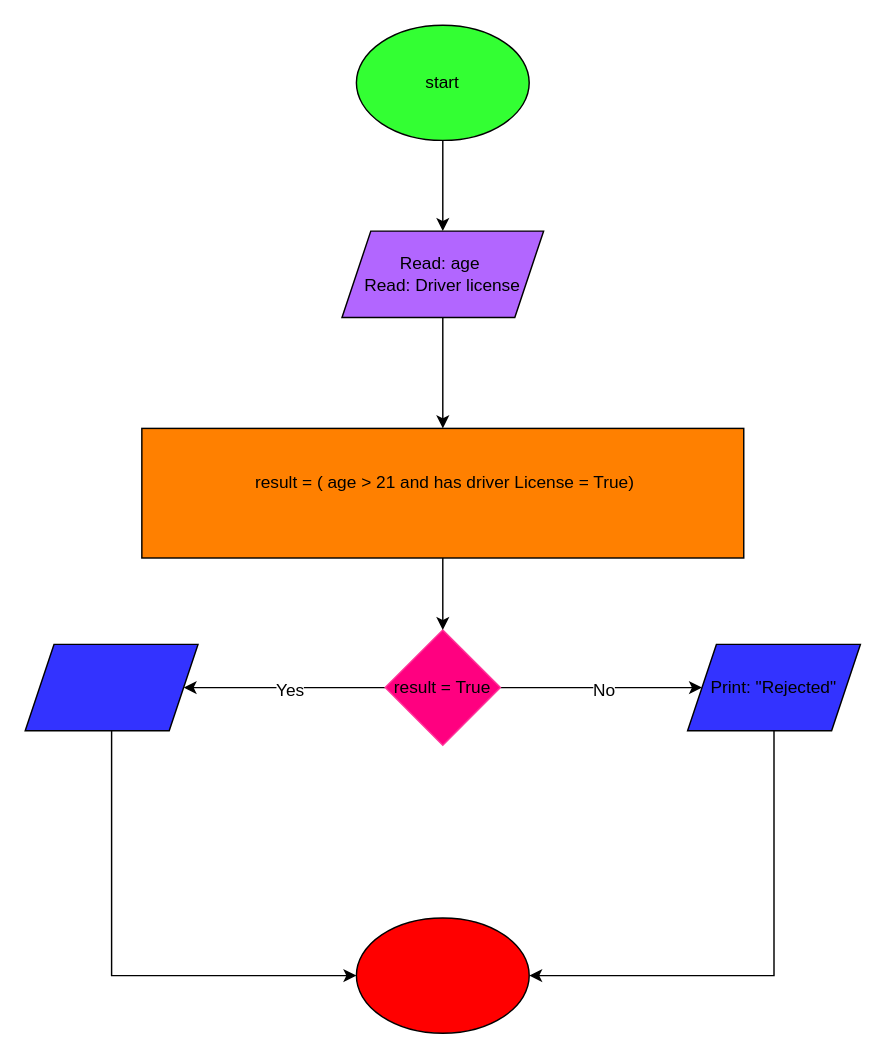
This 886x1058 diagram has some shape labels left out. The centre of each missing label's shape, as x and y in pixels:
End: pixel 442 975
Print: "Hired": pixel 111 687
